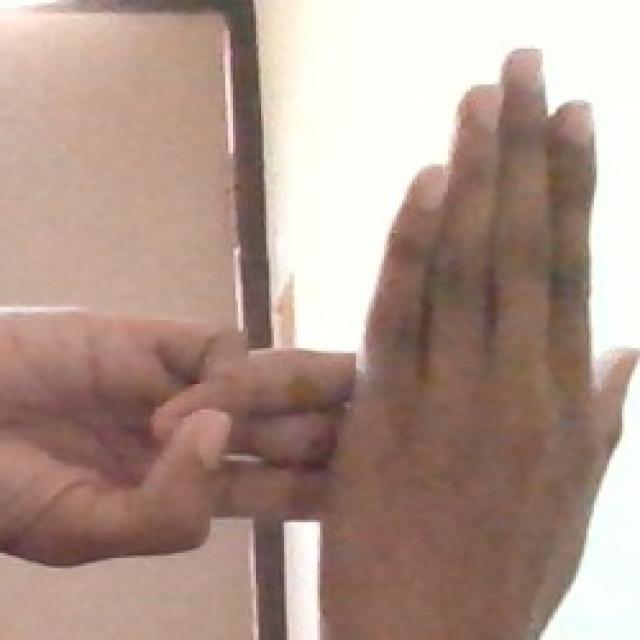Alphabet-M: (0, 30, 640, 640)
